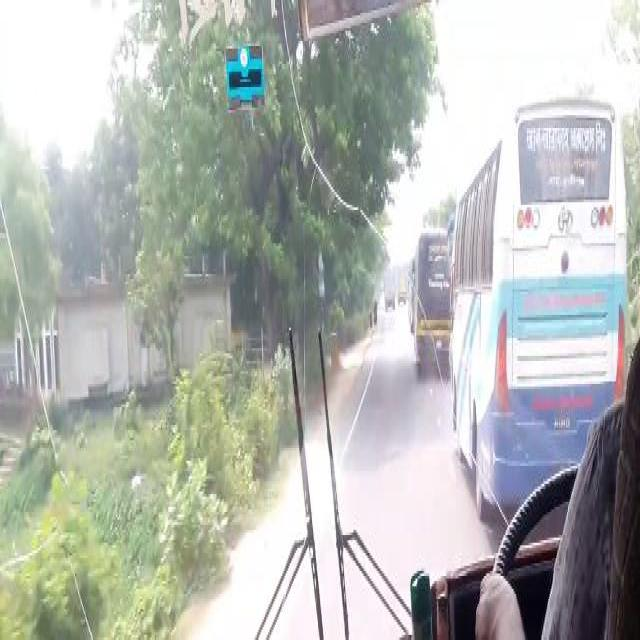bus: (452, 87, 628, 512), (412, 228, 452, 371)
pickup: (384, 266, 396, 307), (396, 261, 406, 297)
